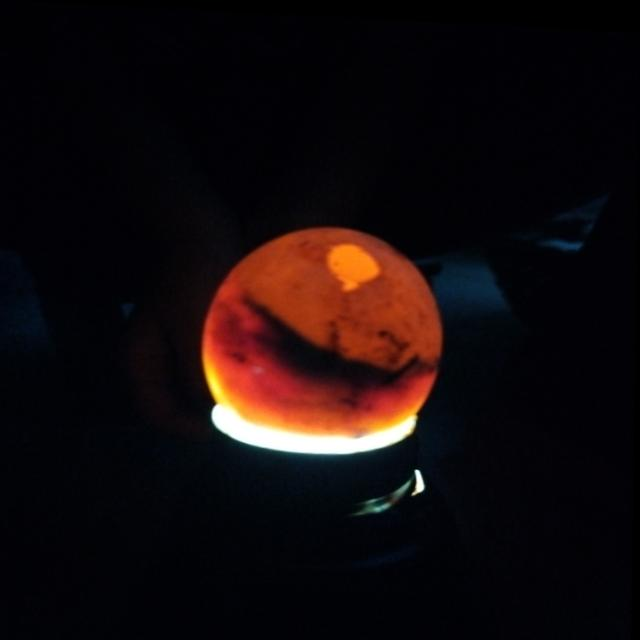Area Infectada: (242, 290, 440, 404)
